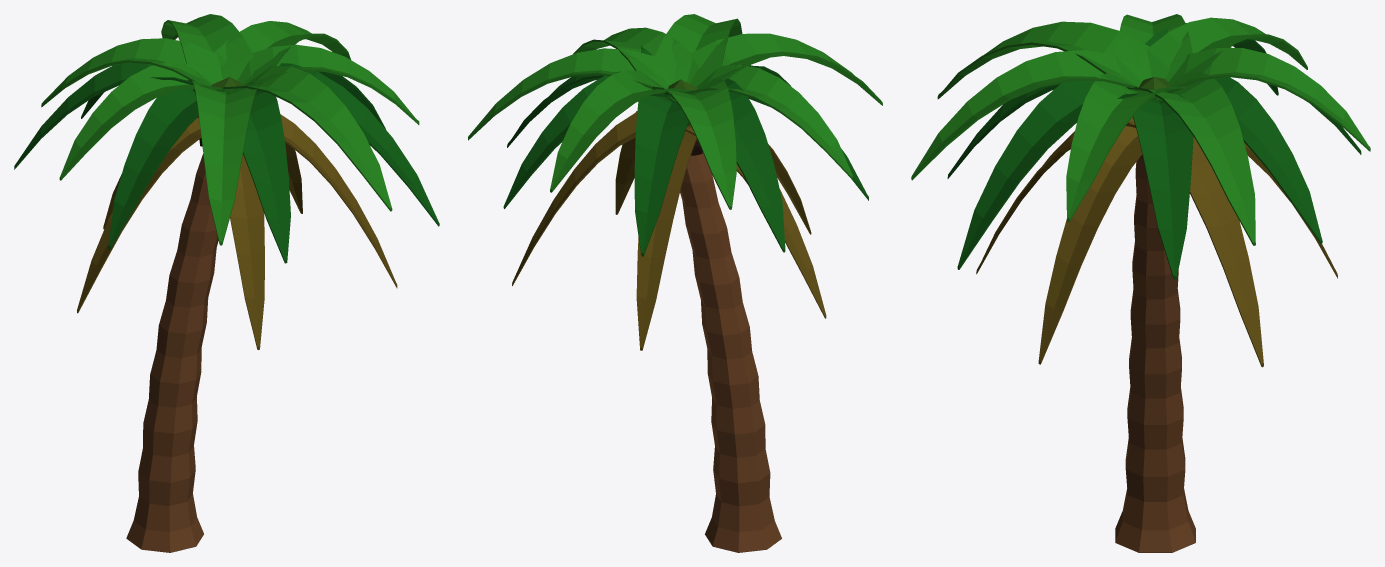
File: WL_Tree_Palm_A.obj
3 views of the same model, side by side, from view 1: azimuth 30°, elevation 25°; view 2: azimuth 150°, elevation 25°; view 3: azimuth 270°, elevation 25° (orthographic). The views are drawn at different scales.
Parts seen in each view (by area): view 1: WL_Tree_Palm_A_Fronds_B, WL_Tree_Palm_A_Trunk, WL_Tree_Palm_A_Fronds_A, WL_Tree_Palm_A_Fronds_Dry; view 2: WL_Tree_Palm_A_Fronds_B, WL_Tree_Palm_A_Trunk, WL_Tree_Palm_A_Fronds_A, WL_Tree_Palm_A_Fronds_Dry; view 3: WL_Tree_Palm_A_Fronds_B, WL_Tree_Palm_A_Fronds_A, WL_Tree_Palm_A_Trunk, WL_Tree_Palm_A_Fronds_Dry.
Part boxes in pixels (x1,y1,x2,y2): WL_Tree_Palm_A_Fronds_B: [41, 14, 419, 245]; WL_Tree_Palm_A_Trunk: [126, 154, 218, 552]; WL_Tree_Palm_A_Fronds_A: [14, 62, 439, 263]; WL_Tree_Palm_A_Fronds_Dry: [77, 114, 397, 349]; WL_Tree_Palm_A_Fronds_B: [468, 14, 882, 209]; WL_Tree_Palm_A_Trunk: [680, 152, 781, 552]; WL_Tree_Palm_A_Fronds_A: [503, 46, 868, 256]; WL_Tree_Palm_A_Fronds_Dry: [512, 111, 826, 350]; WL_Tree_Palm_A_Fronds_B: [911, 14, 1370, 245]; WL_Tree_Palm_A_Fronds_A: [947, 23, 1361, 279]; WL_Tree_Palm_A_Trunk: [1115, 156, 1195, 552]; WL_Tree_Palm_A_Fronds_Dry: [976, 117, 1337, 367].
Size of the model in its own units: 5.99 by 7.8 by 6.29.
